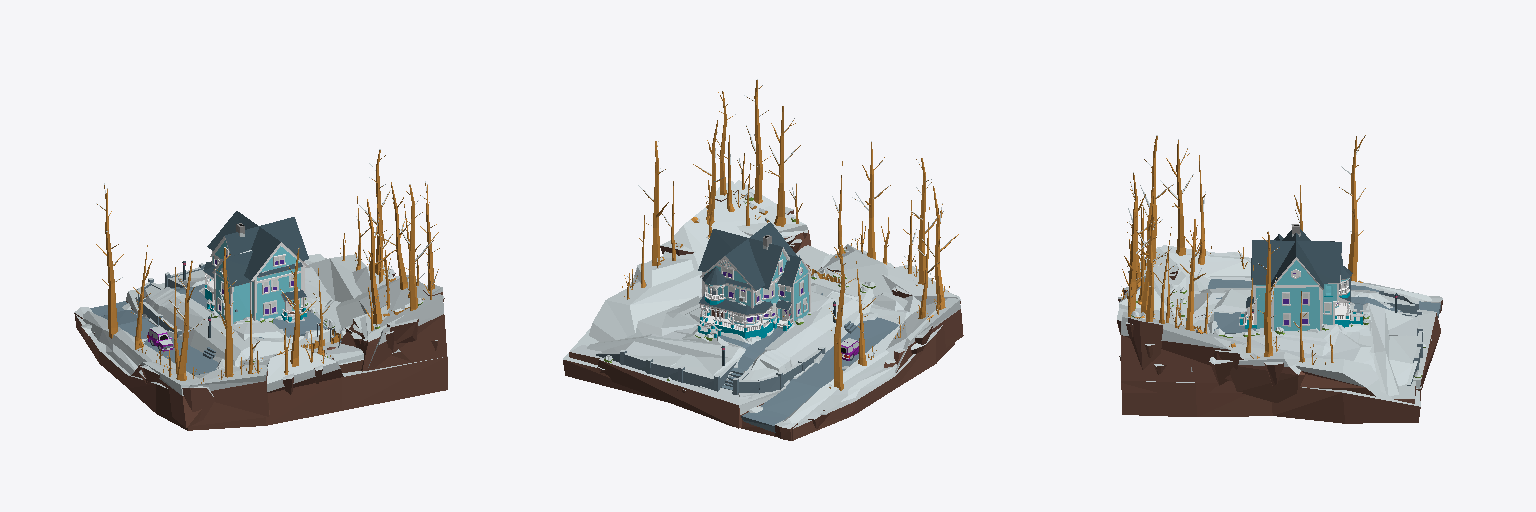
3 renders of one model, left to right at view 1: azimuth 30°, elevation 25°; view 2: azimuth 150°, elevation 25°; view 3: azimuth 270°, elevation 25°, orthographic.
Visible parts, largest first — view 1: group[number redacted], group[number redacted], group[number redacted], group[number redacted], group[number redacted], group[number redacted], group[number redacted], group[number redacted], group[number redacted], group[number redacted], group[number redacted], group[number redacted] (+13 smaller); view 2: group[number redacted], group[number redacted], group[number redacted], group[number redacted], group[number redacted], group[number redacted], group[number redacted], group[number redacted], group[number redacted], group[number redacted], group[number redacted], group[number redacted] (+13 smaller); view 3: group[number redacted], group[number redacted], group[number redacted], group[number redacted], group[number redacted], group[number redacted], group[number redacted], group[number redacted], group[number redacted], group[number redacted], group[number redacted], group[number redacted] (+8 smaller).
Boxes of the visible parts, <box> form: group[number redacted]: <box>201,211,308,324</box>; group[number redacted]: <box>76,258,447,430</box>; group[number redacted]: <box>336,275,447,370</box>; group[number redacted]: <box>143,261,332,366</box>; group[number redacted]: <box>189,363,269,425</box>; group[number redacted]: <box>259,346,343,392</box>; group[number redacted]: <box>308,254,366,302</box>; group[number redacted]: <box>101,310,218,375</box>; group[number redacted]: <box>83,311,192,375</box>; group[number redacted]: <box>131,361,201,427</box>; group[number redacted]: <box>339,303,403,371</box>; group[number redacted]: <box>240,342,410,372</box>; group[number redacted]: <box>695,222,811,342</box>; group[number redacted]: <box>587,292,870,386</box>; group[number redacted]: <box>563,325,954,440</box>; group[number redacted]: <box>598,357,785,428</box>; group[number redacted]: <box>589,270,701,341</box>; group[number redacted]: <box>761,317,898,415</box>; group[number redacted]: <box>662,180,795,292</box>; group[number redacted]: <box>783,322,903,423</box>; group[number redacted]: <box>886,298,963,372</box>; group[number redacted]: <box>817,244,891,296</box>; group[number redacted]: <box>882,265,956,314</box>; group[number redacted]: <box>629,256,693,286</box>; group[number redacted]: <box>1239,224,1369,330</box>; group[number redacted]: <box>1121,381,1420,423</box>; group[number redacted]: <box>1121,312,1246,392</box>; group[number redacted]: <box>1199,288,1412,395</box>; group[number redacted]: <box>1230,346,1305,402</box>; group[number redacted]: <box>1242,343,1380,396</box>; group[number redacted]: <box>1161,245,1250,279</box>; group[number redacted]: <box>1128,318,1162,369</box>; group[number redacted]: <box>1389,335,1417,385</box>; group[number redacted]: <box>1413,309,1440,388</box>; group[number redacted]: <box>1324,331,1375,371</box>; group[number redacted]: <box>1339,135,1365,281</box>.
Size of the model in its own units: 6.01 by 4.4 by 6.26.